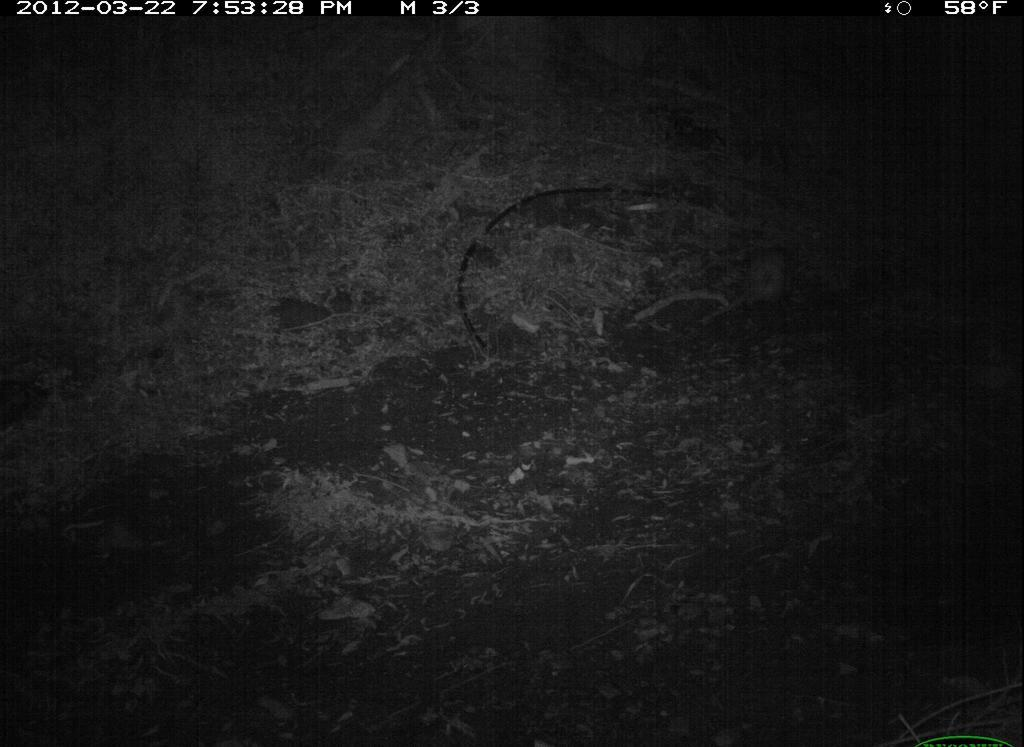opossum: (699, 235, 815, 328)
